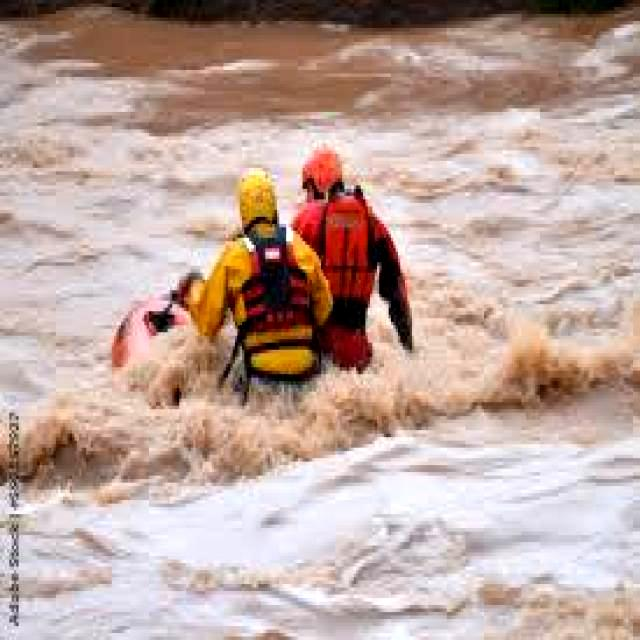rescuer: (285, 144, 427, 397), (185, 162, 312, 430)
